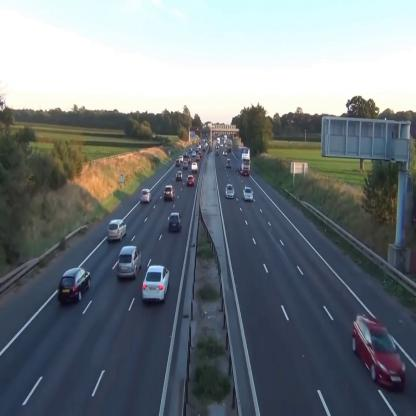car: (352, 314, 407, 392), (58, 268, 91, 302), (142, 265, 170, 303), (117, 246, 143, 280), (107, 219, 127, 240), (169, 213, 181, 231), (140, 188, 151, 202), (164, 186, 174, 201), (243, 186, 253, 201), (226, 184, 233, 198), (187, 174, 194, 185), (192, 162, 198, 172), (176, 171, 182, 180), (227, 159, 232, 167), (183, 160, 187, 169), (175, 159, 180, 166), (179, 156, 184, 162)
lorry: (238, 146, 250, 174)
